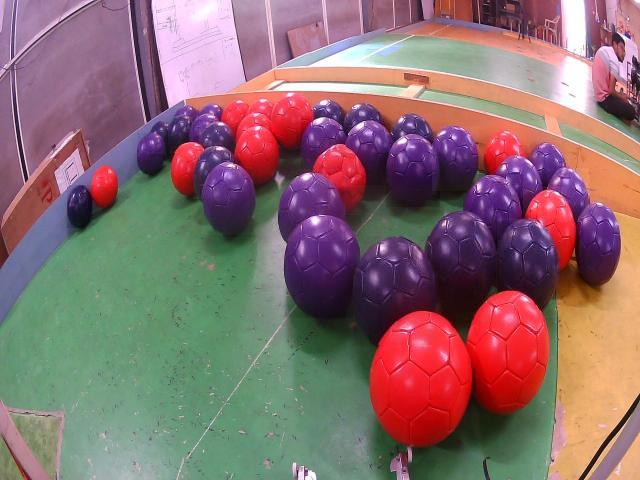jambhalya: (284, 215, 361, 318), (279, 173, 344, 241), (464, 175, 523, 246), (386, 133, 440, 207), (575, 204, 621, 285), (203, 164, 255, 235), (345, 120, 392, 185), (433, 126, 479, 191), (497, 155, 542, 215), (302, 117, 346, 169), (547, 168, 589, 222), (530, 143, 566, 187), (137, 134, 165, 175), (190, 113, 217, 141), (199, 103, 222, 120), (175, 105, 198, 120)
kaalyya: (353, 236, 437, 345), (426, 212, 496, 324), (497, 218, 559, 310), (194, 146, 233, 199), (344, 103, 383, 135), (391, 114, 434, 143), (199, 122, 236, 153), (67, 185, 93, 228), (168, 114, 193, 153), (313, 98, 346, 125), (151, 120, 170, 154)
